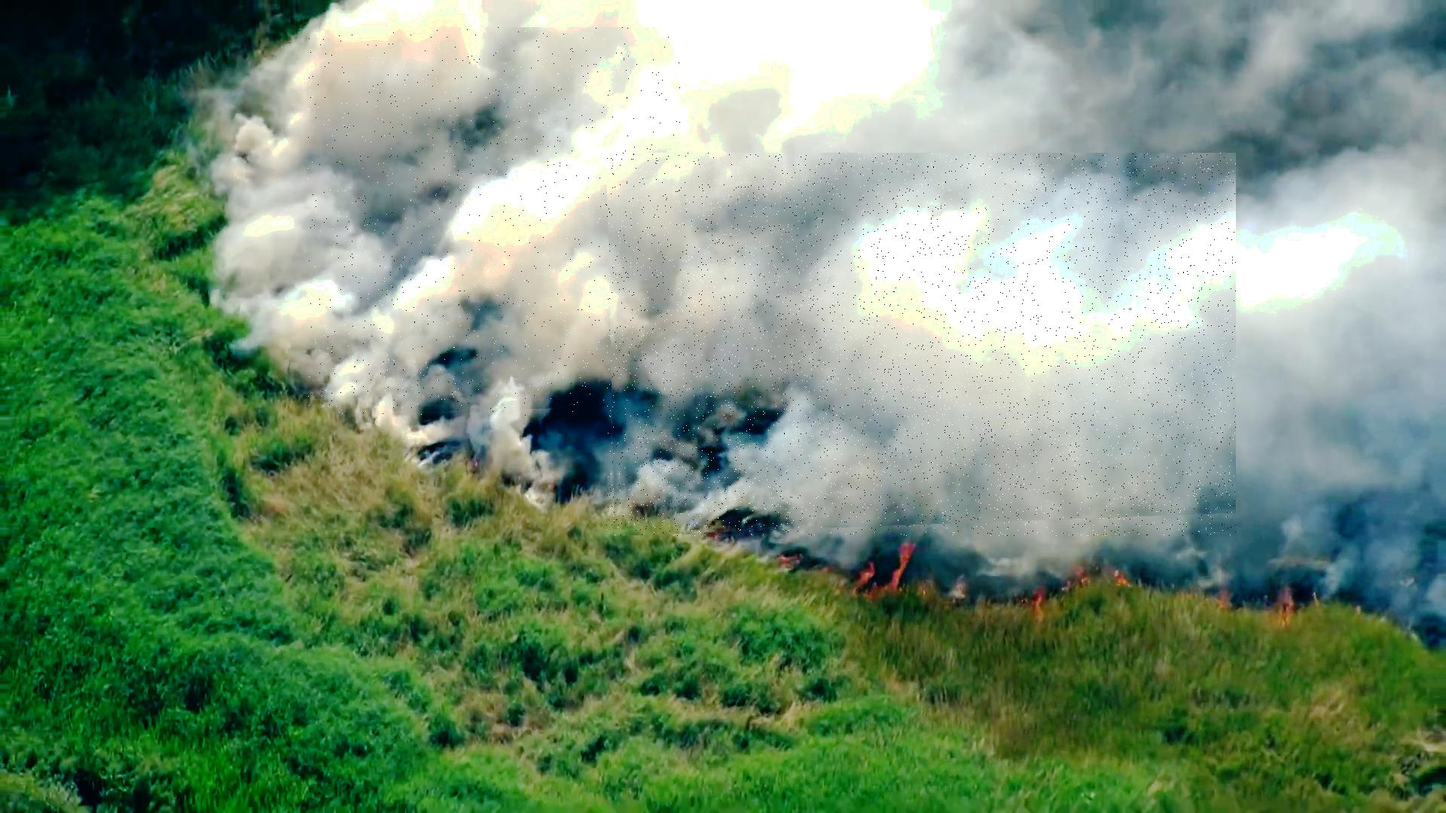smoke: (606, 153, 1236, 536), (307, 27, 680, 416)
